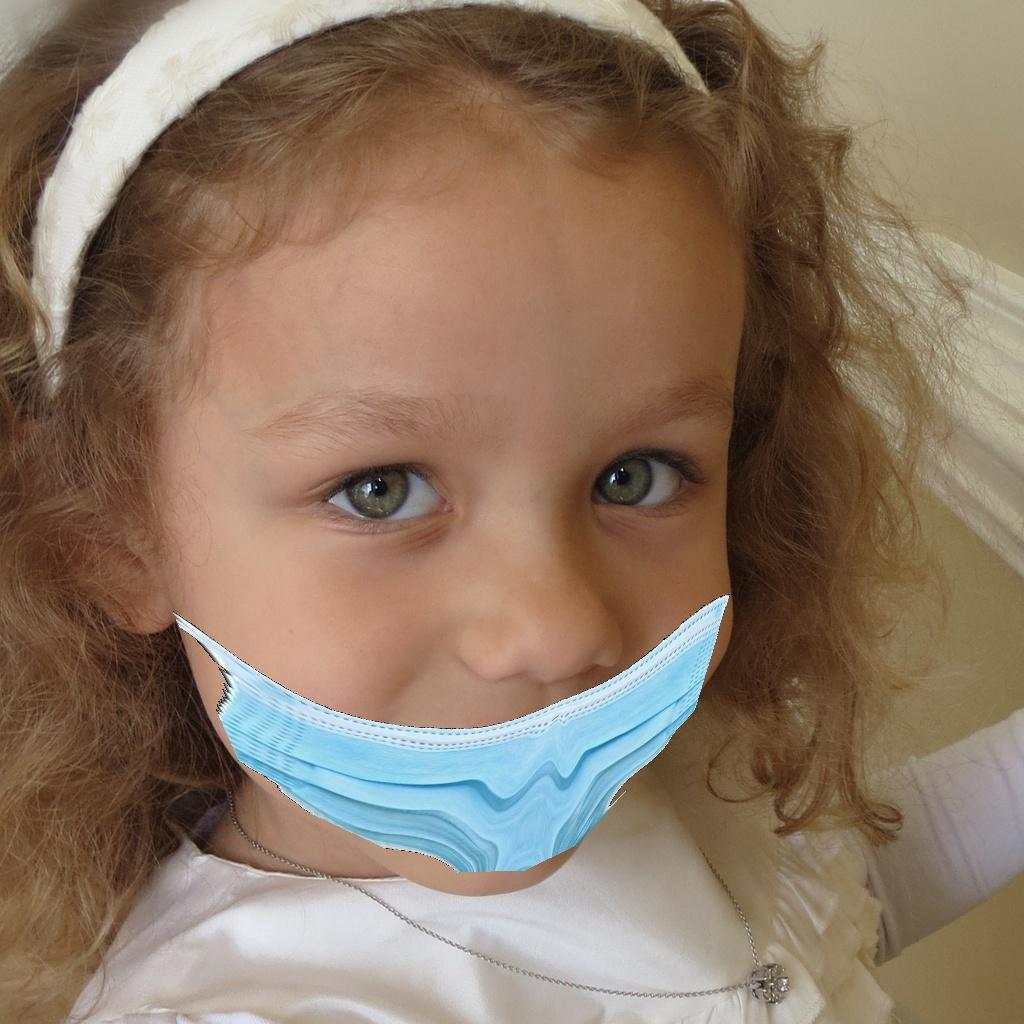Máscara Incorreta: (195, 158, 745, 879)
